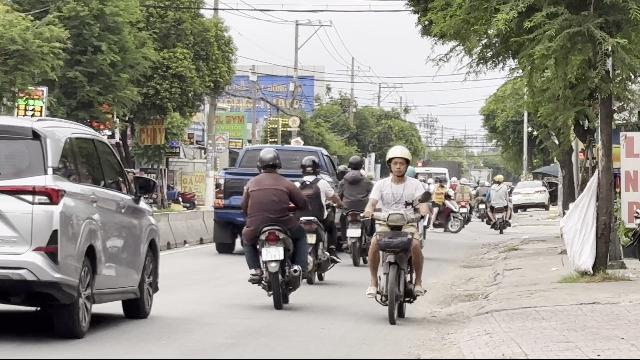helmet: (384, 144, 412, 178), (256, 147, 282, 173), (299, 156, 319, 176)
licenseplate: (261, 247, 283, 261)
motorcyclist: (362, 144, 432, 322), (238, 146, 308, 306), (298, 153, 338, 282)
